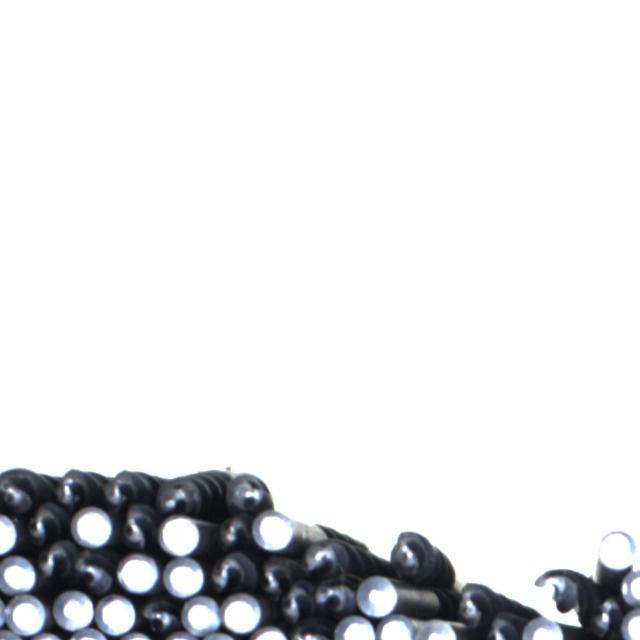tool: (595, 527, 639, 570), (53, 589, 94, 631), (357, 575, 398, 616), (6, 594, 48, 634), (97, 592, 137, 634), (70, 505, 112, 545), (163, 556, 205, 596), (159, 514, 200, 554), (221, 593, 262, 633), (116, 554, 156, 593), (253, 510, 294, 548), (182, 596, 220, 634), (0, 554, 36, 593), (334, 614, 376, 640), (377, 613, 417, 640), (523, 617, 564, 640), (417, 618, 458, 640), (621, 565, 640, 605), (0, 513, 17, 554)
tool_b: (532, 564, 592, 617), (157, 469, 226, 510), (296, 535, 350, 577), (389, 527, 433, 577), (68, 546, 113, 591), (102, 467, 153, 505), (252, 550, 297, 593), (0, 466, 43, 510), (54, 468, 101, 507), (308, 573, 350, 616), (228, 469, 270, 509), (115, 508, 154, 551), (25, 502, 65, 543), (454, 581, 492, 624), (208, 553, 252, 590), (213, 512, 256, 549), (136, 596, 179, 632), (270, 582, 309, 621), (588, 595, 620, 638), (35, 540, 71, 578), (484, 609, 520, 640), (286, 617, 332, 640)
